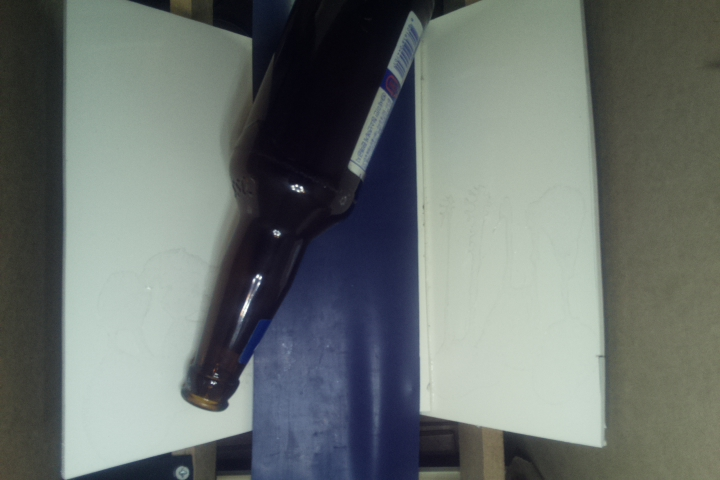makju: (176, 1, 451, 417)
